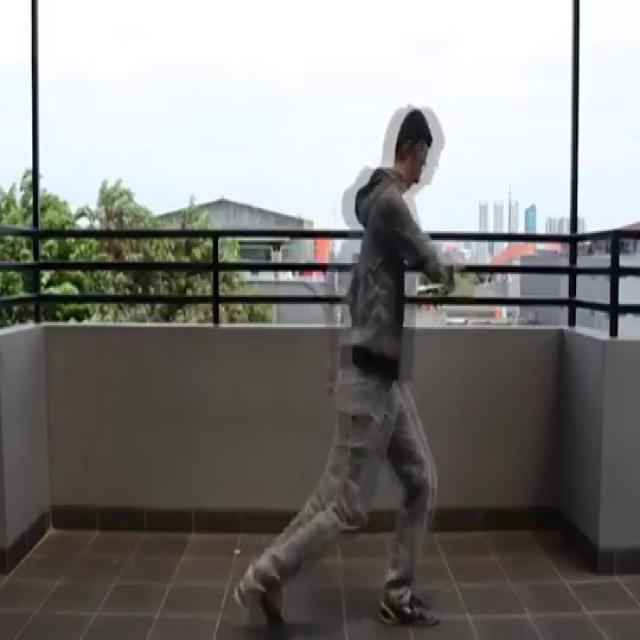normal: (229, 94, 467, 640)
